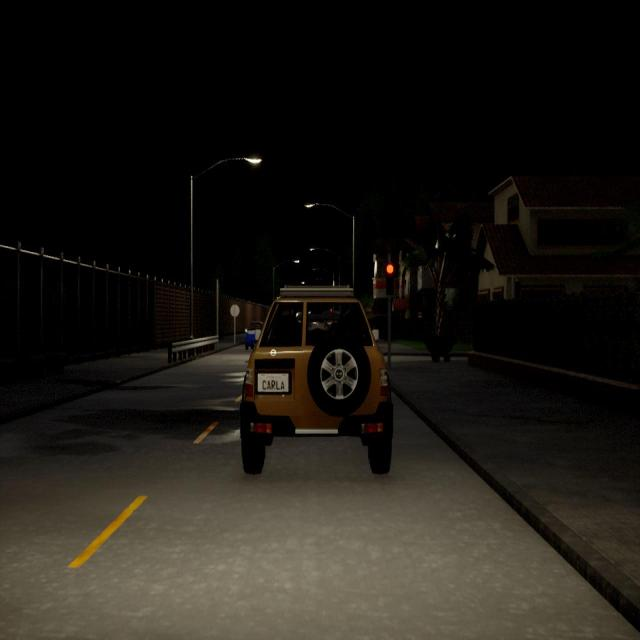Traffic_Signs: (229, 305, 240, 317)
Vehicle: (240, 284, 394, 474), (245, 320, 264, 351)
traffic_light: (384, 263, 395, 300), (330, 306, 332, 314)
